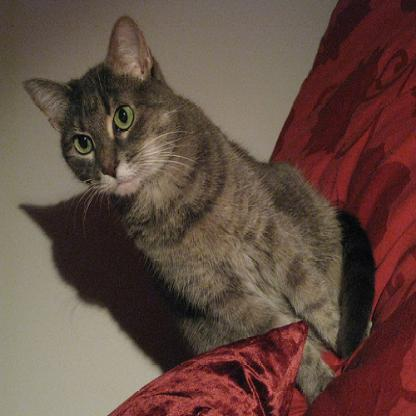cat: (23, 15, 376, 404)
